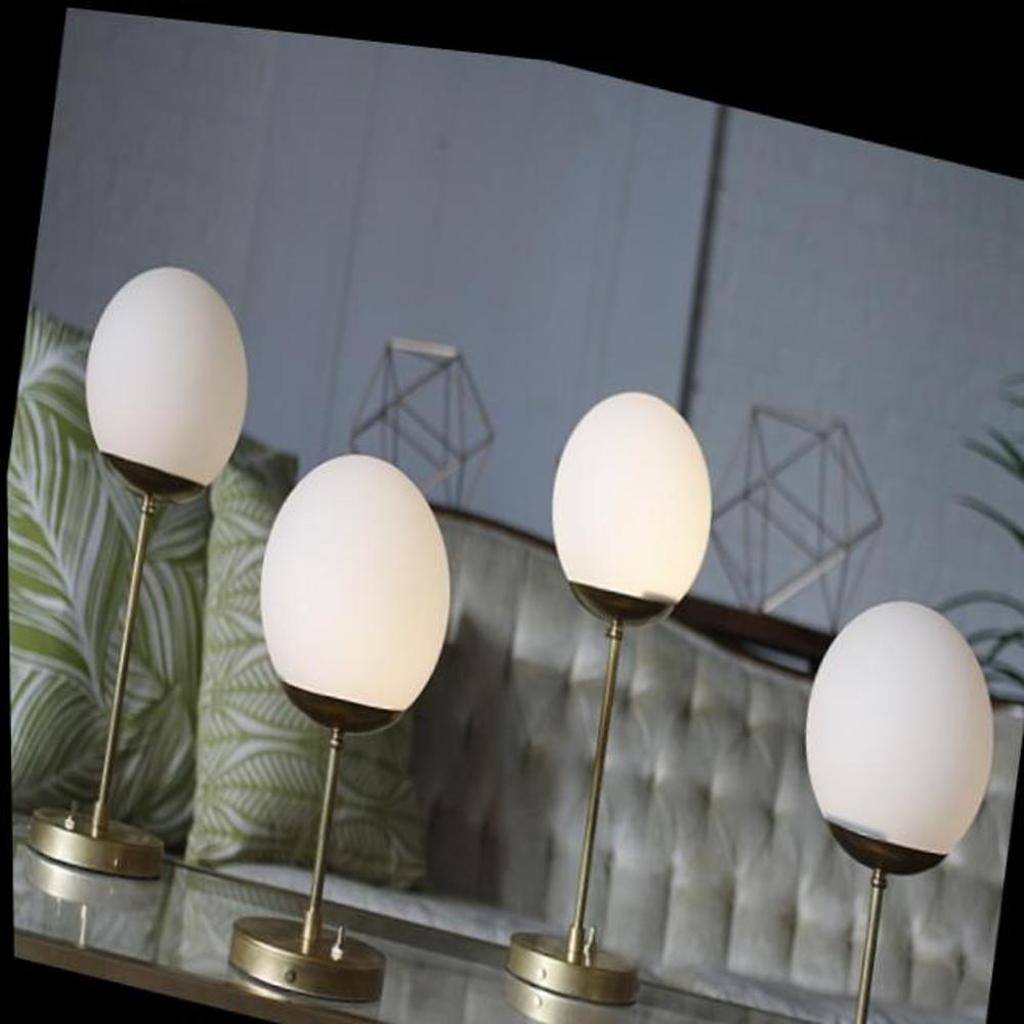shelf: (463, 335, 738, 1024), (197, 410, 475, 1017), (19, 218, 258, 915), (745, 537, 1012, 1024)
